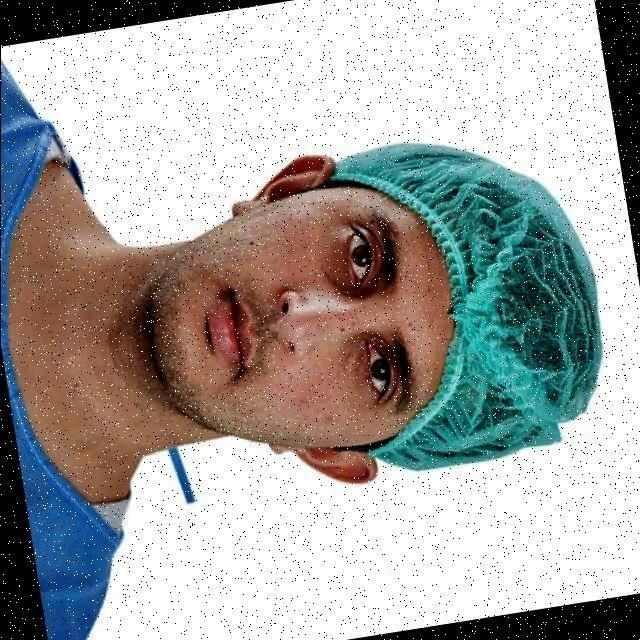no_hairnet: (169, 240, 343, 392)
